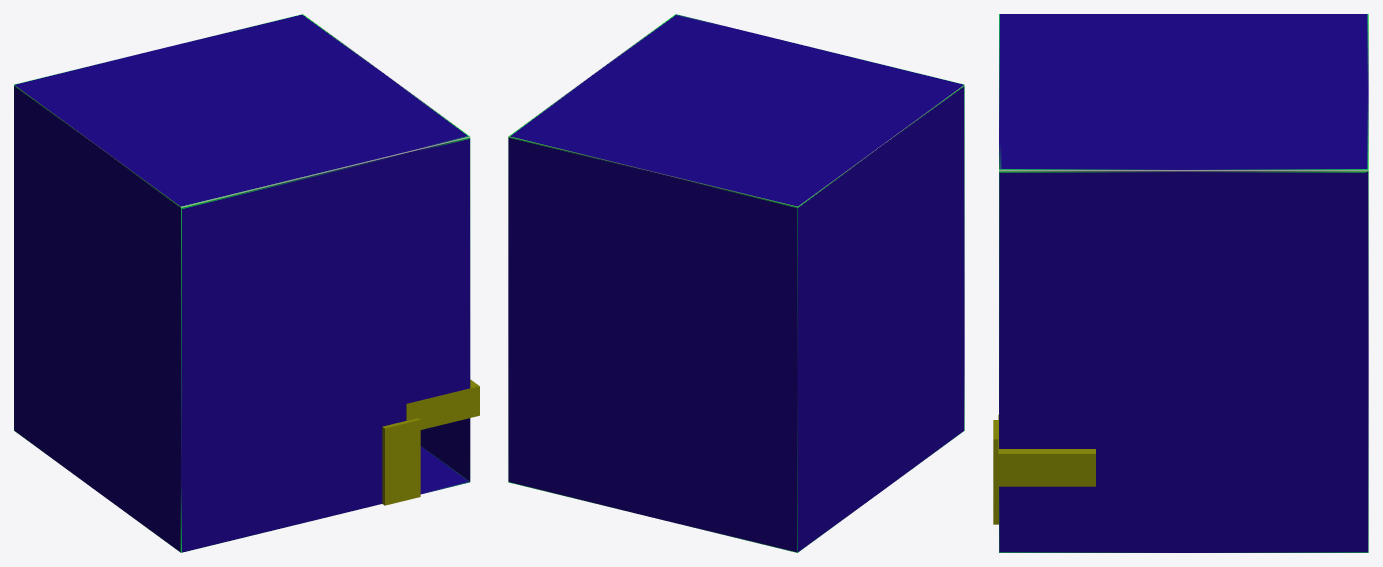
File: protbackground1.FBX
3 views of the same model, side by side, from view 1: azimuth 30°, elevation 25°; view 2: azimuth 150°, elevation 25°; view 3: azimuth 270°, elevation 25° (orthographic). The views are drawn at different scales.
Visible parts, largest first — view 1: Box001, Box005, Box009; view 2: Box001; view 3: Box001, Box009, Box005.
Boxes of the visible parts, left/top/right/bottom form: Box001: left=14, top=14, right=470, bottom=552; Box005: left=382, top=418, right=420, bottom=505; Box009: left=406, top=379, right=479, bottom=429; Box001: left=508, top=14, right=964, bottom=552; Box001: left=999, top=14, right=1368, bottom=552; Box009: left=998, top=414, right=1095, bottom=486; Box005: left=993, top=420, right=998, bottom=524.
Bounding box in the file's own units: 103 × 101 × 114.
Materials: 2 (2 with a texture image).
